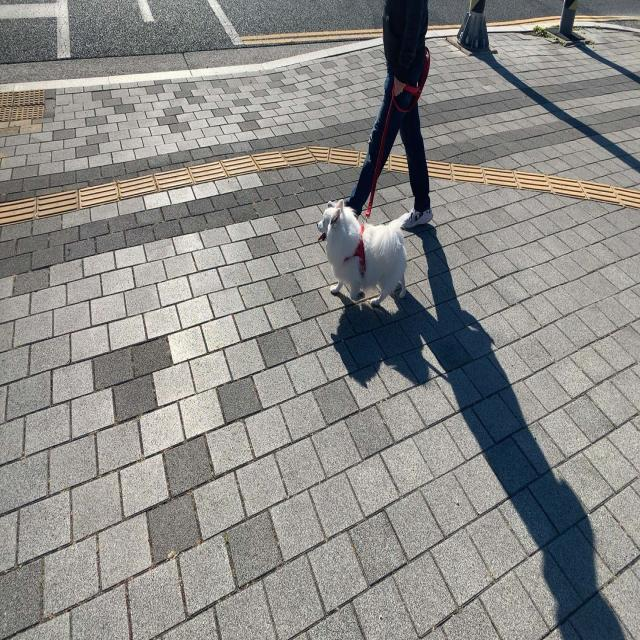Leashed_Dog: (316, 68, 407, 306)
